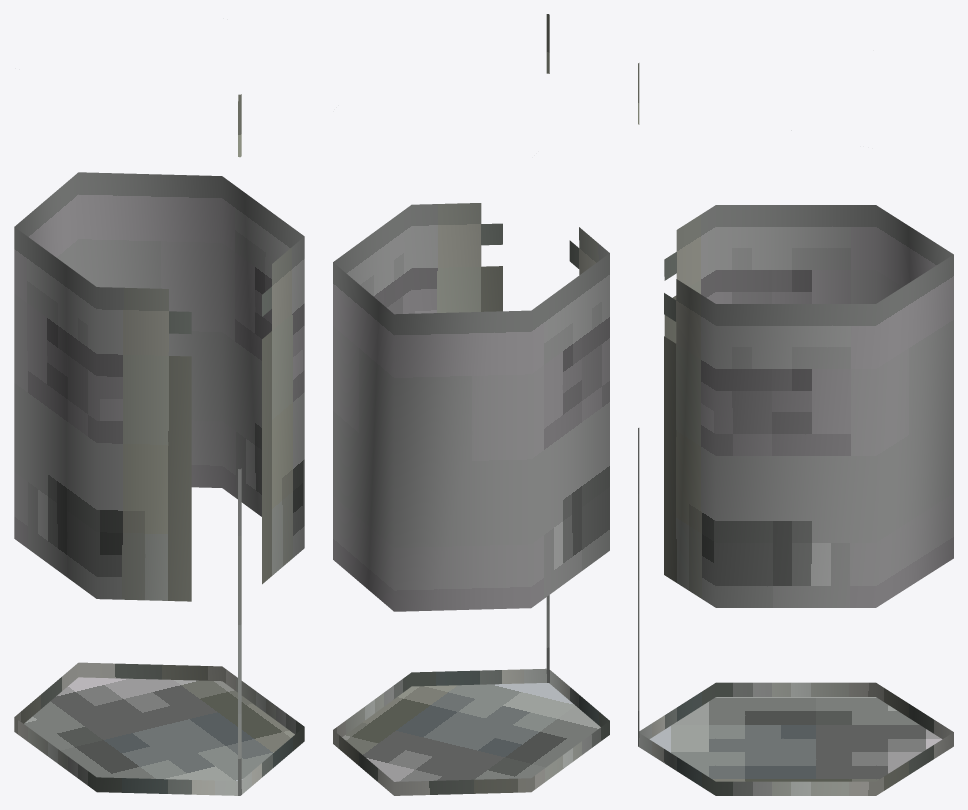
Rendered from eqp_spray_bottle_s01_l3.fbx.
3 views of the same model, side by side, from view 1: azimuth 30°, elevation 25°; view 2: azimuth 150°, elevation 25°; view 3: azimuth 270°, elevation 25° (orthographic). The views are drawn at different scales.
Visible parts, largest first — view 1: mesh_node; view 2: mesh_node; view 3: mesh_node.
Boxes of the visible parts, x1=… form: mesh_node: x1=14, y1=94, x2=304, y2=795; mesh_node: x1=333, y1=14, x2=609, y2=795; mesh_node: x1=638, y1=63, x2=953, y2=795.
Size of the model in its own units: 0.0485 by 0.1563 by 0.0655.
